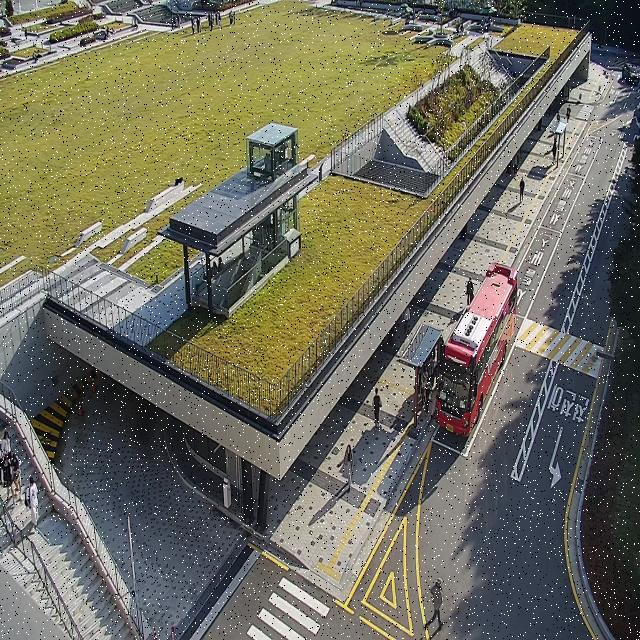queue: (416, 332, 443, 426)
